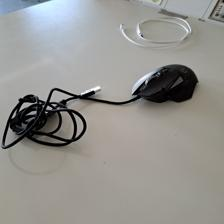mouse: (129, 61, 199, 104)
